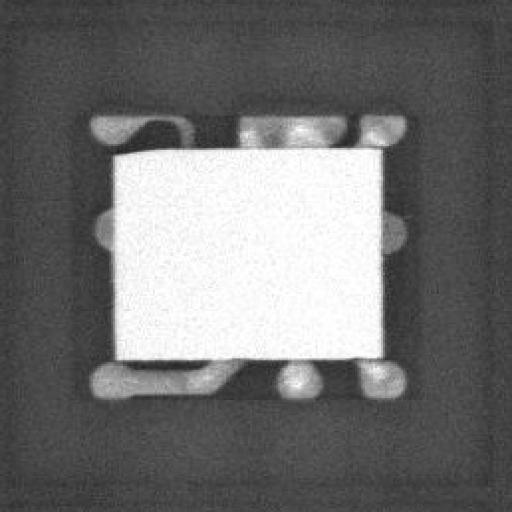DIE_BROKEN: (111, 146, 159, 159)
